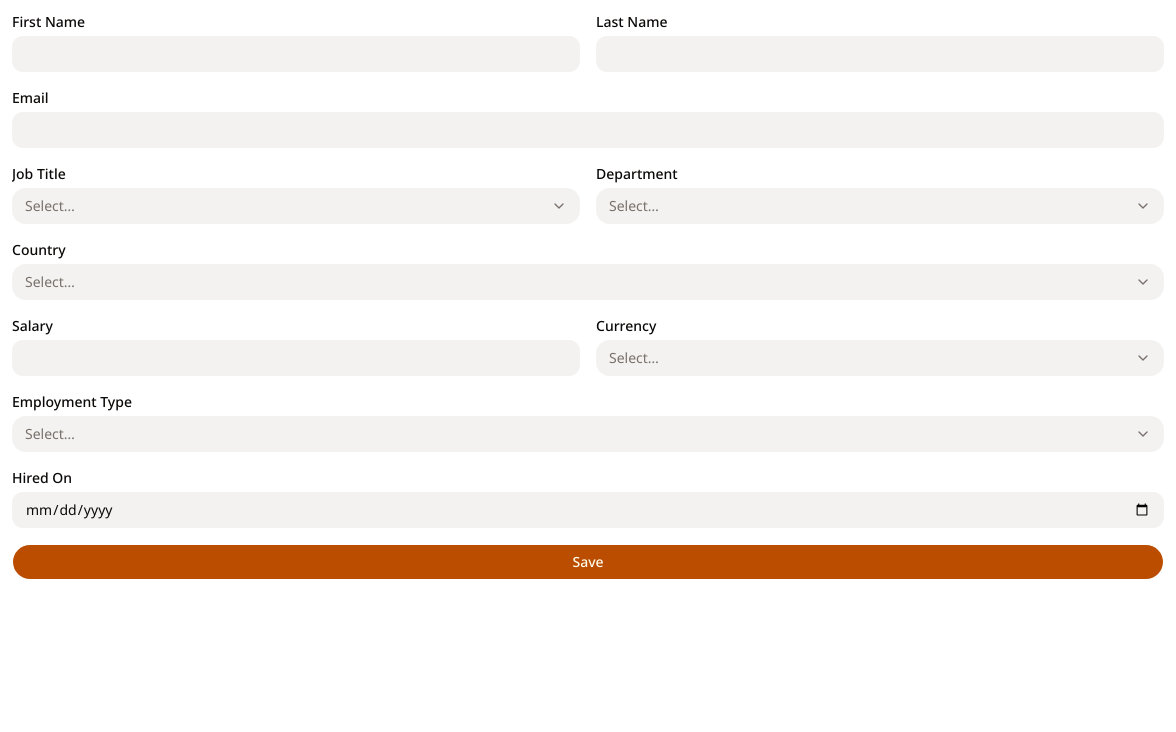
EmployeeForm › renders a job title select with the provided options
Click the dropdown named "job title" at x=50, y=206, box [12,188,580,224]
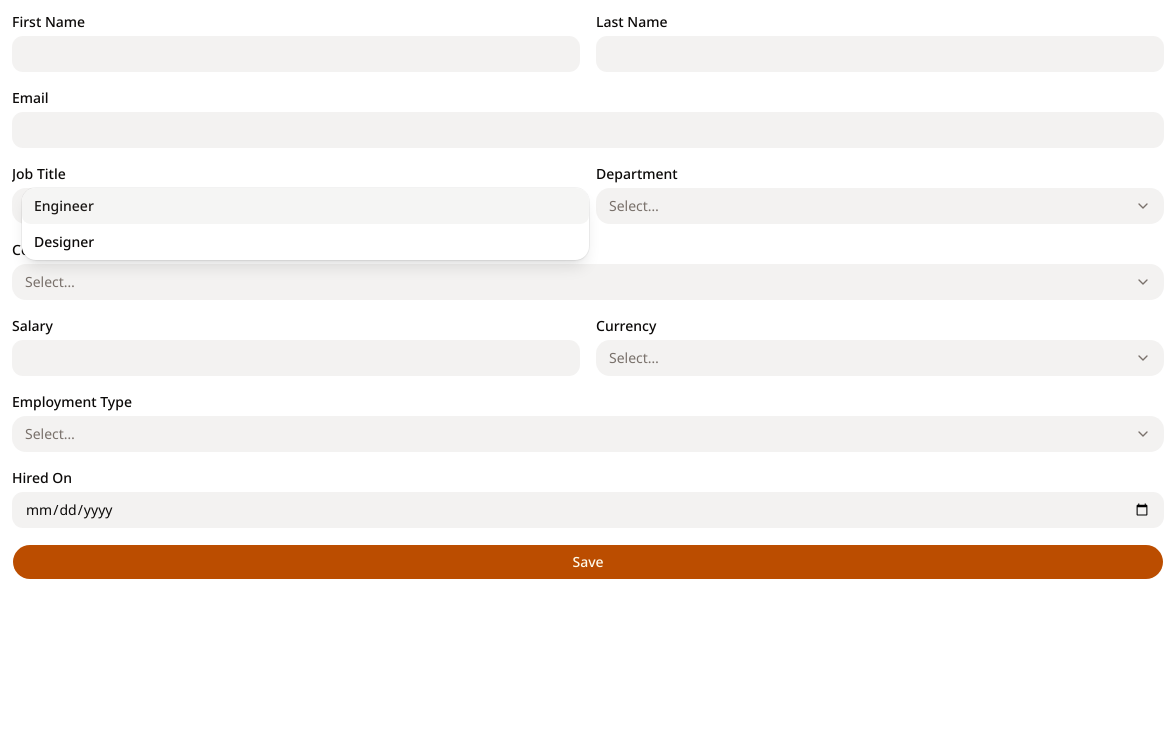
Result: the option "Engineer" is shown at [22,188,589,224]
Result: the option "Designer" is shown at [34,232,94,251]
